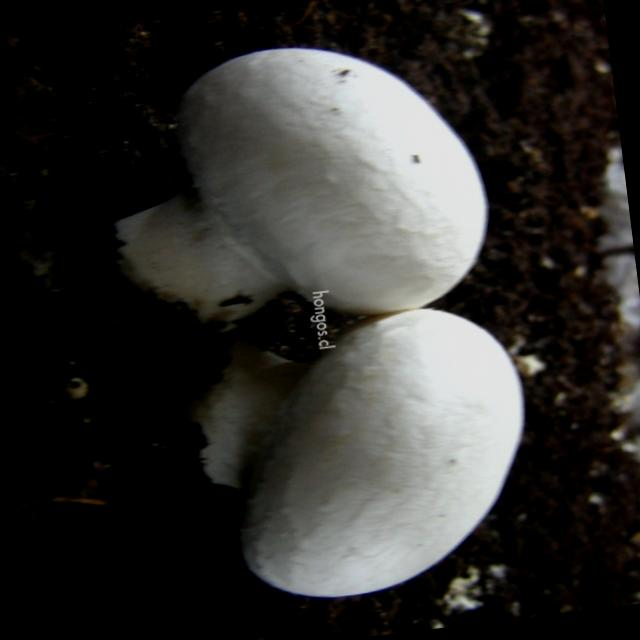Agaricus bisporus: (96, 27, 498, 349), (179, 301, 546, 613)
